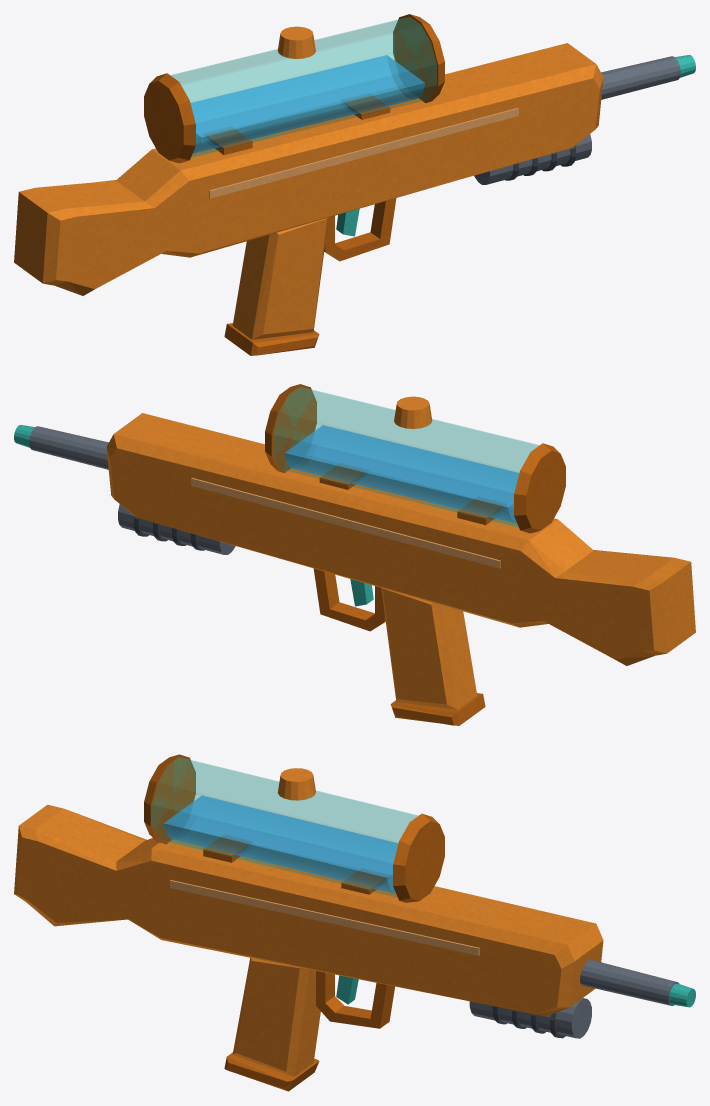
Rendered from tidal_v2.glb.
3 renders of one model, top to bottom at view 1: azimuth 30°, elevation 25°; view 2: azimuth 150°, elevation 25°; view 3: azimuth 330°, elevation 25°, orthographic.
Parts seen in each view (by area): view 1: body, water; view 2: body, water; view 3: body, water.
Boxes of the visible parts, x1,y1,x2,y2 form: body: (14, 14, 695, 355); water: (190, 55, 424, 153); body: (14, 384, 695, 725); water: (285, 425, 519, 523); body: (14, 754, 695, 1091); water: (164, 795, 398, 893).
Size of the model in its own units: 0.558 by 0.246 by 0.0657.
Materials: 8 (6 with a texture image).
